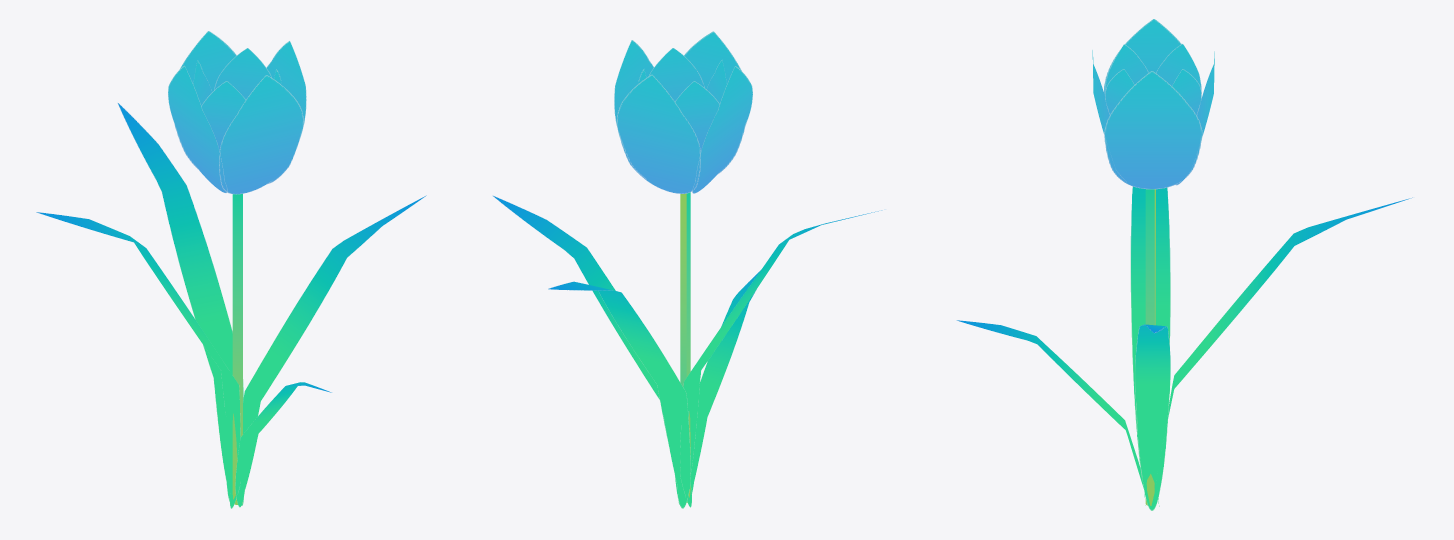
File: Flowers_n02_18.fbx
3 views of the same model, side by side, from view 1: azimuth 30°, elevation 25°; view 2: azimuth 150°, elevation 25°; view 3: azimuth 270°, elevation 25° (orthographic). The views are drawn at different scales.
Parts seen in each view (by area): view 1: polySurface301; view 2: polySurface301; view 3: polySurface301.
Boxes of the visible parts, box(x1,y1,x2,y2) form: polySurface301: box(36, 31, 426, 508); polySurface301: box(492, 31, 882, 508); polySurface301: box(956, 19, 1412, 510).
Size of the model in its own units: 39.79 by 41.64 by 38.83.
1 material, 1 textured.
